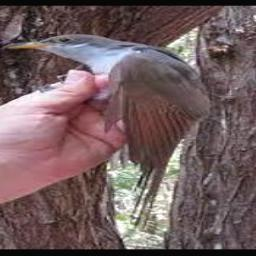Cuckoo: (4, 34, 211, 229)
